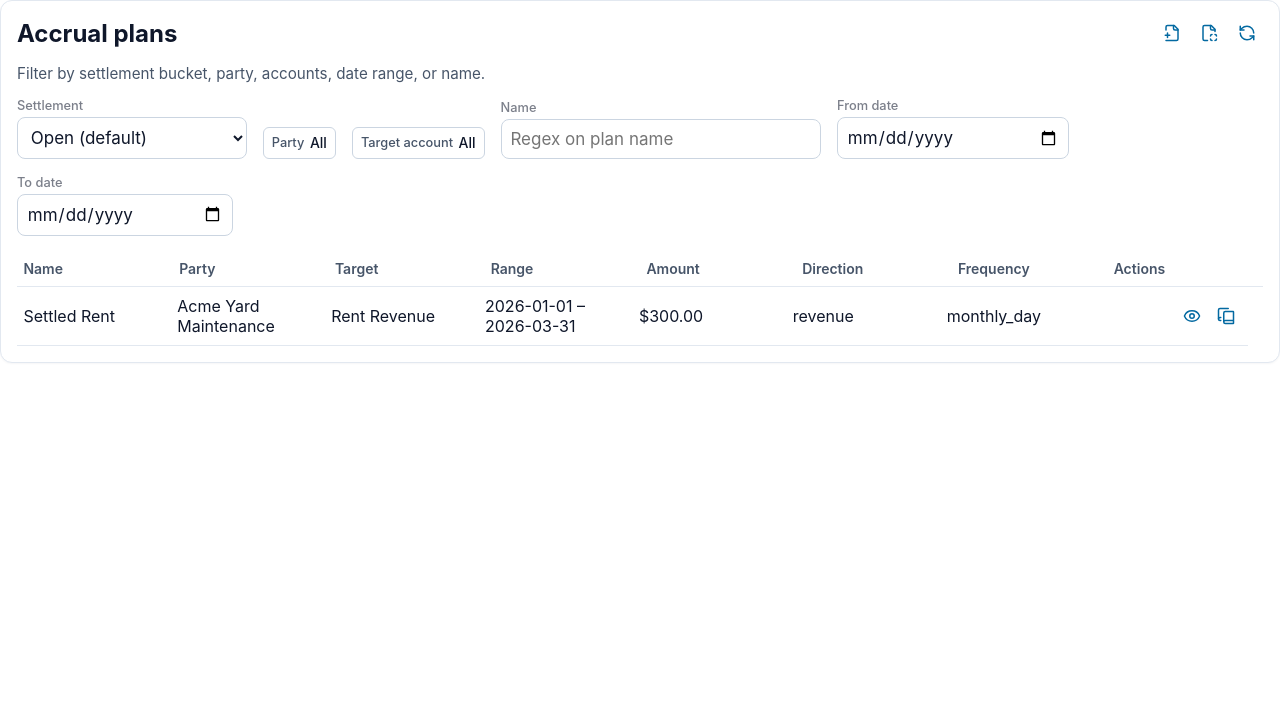
Test case: AccrualPlansSection view modal › opens view modal with rollups and obligations from detail API
expect the text "Settled Rent" is shown: met, box x1=17 y1=287 x2=171 y2=345
Click the button named "View plan Settled Rent": (1192, 316) x1=1176 y1=300 x2=1208 y2=332
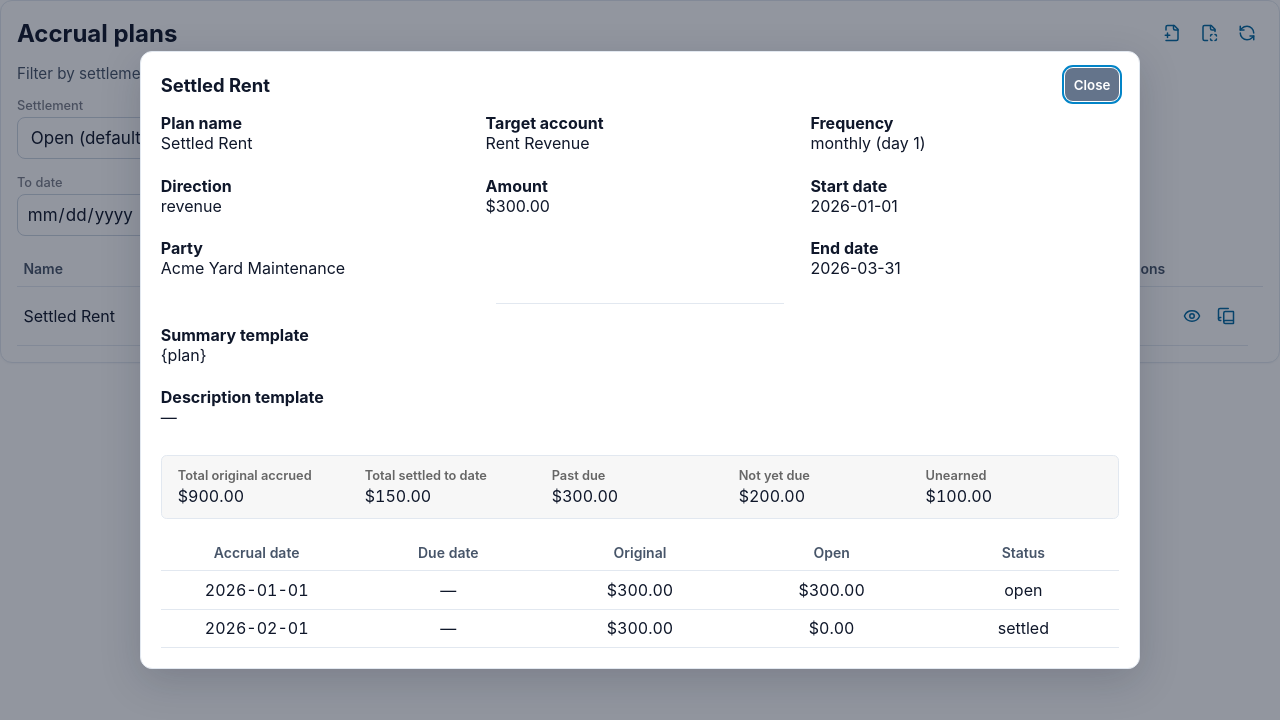
expect the heading "Settled Rent" is shown: met, box x1=161 y1=74 x2=270 y2=96
expect the text "Total original accrued" is shown: met, box x1=178 y1=468 x2=312 y2=483
expect the text "$900.00" is shown: met, box x1=178 y1=486 x2=244 y2=506
